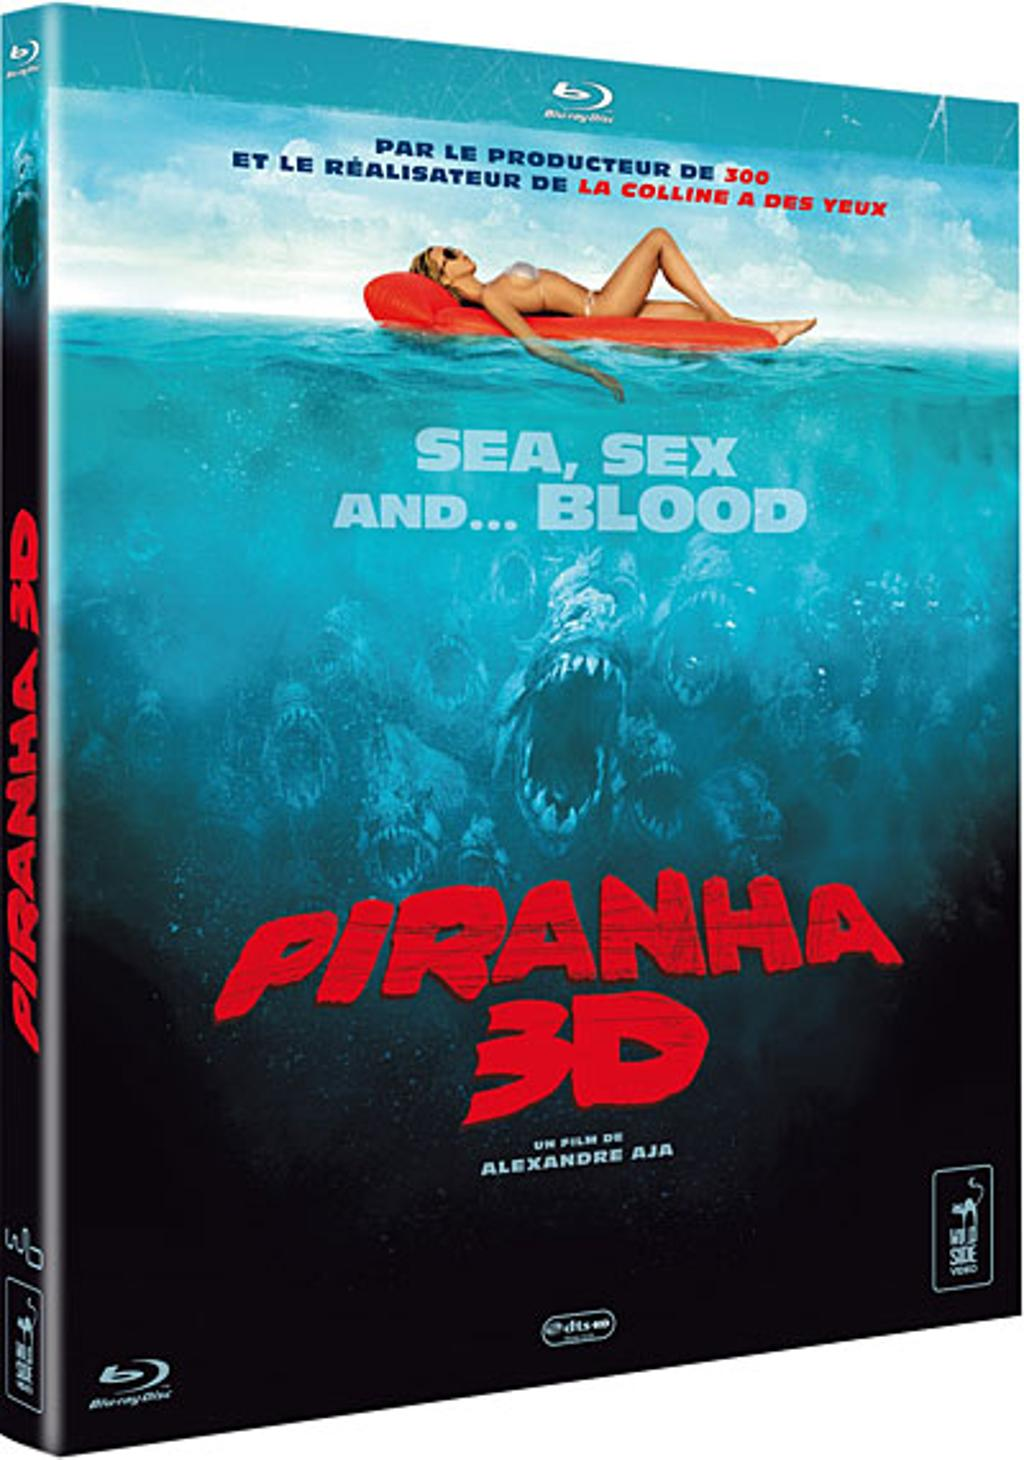face: (430, 246, 476, 276)
